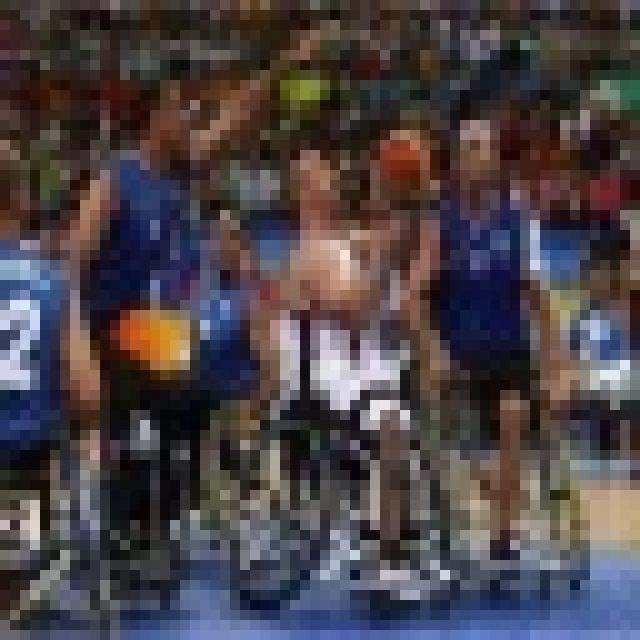wheelchairs: (374, 382, 601, 618), (226, 389, 456, 606), (1, 406, 176, 640)
